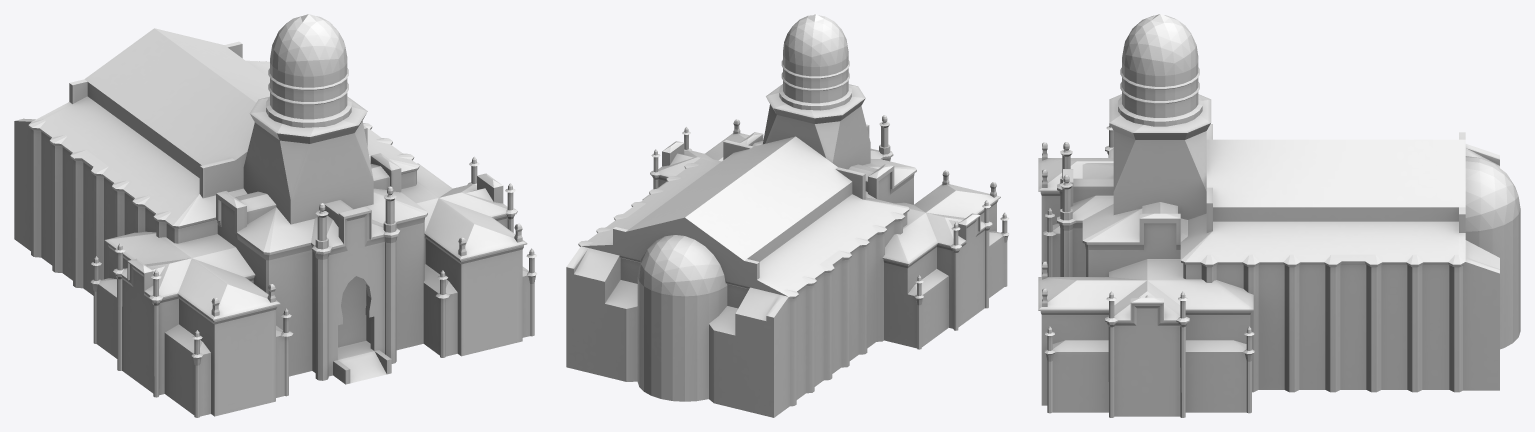
Rendered from greatchoralsynagogue.dae.
The picture shows the model from 3 angles, left to right: view 1: azimuth 30°, elevation 25°; view 2: azimuth 150°, elevation 25°; view 3: azimuth 270°, elevation 25°; orthographic projection. The views are drawn at different scales.
Parts seen in each view (by area): view 1: greatchoralsynagogue; view 2: greatchoralsynagogue; view 3: greatchoralsynagogue.
Boxes of the visible parts, x1=… form: greatchoralsynagogue: x1=14, y1=14, x2=537, y2=417; greatchoralsynagogue: x1=566, y1=14, x2=1009, y2=417; greatchoralsynagogue: x1=1038, y1=14, x2=1520, y2=417.
Size of the model in its own units: 0.0746 by 0.0862 by 0.0626.
Materials: 1 (1 with a texture image).
